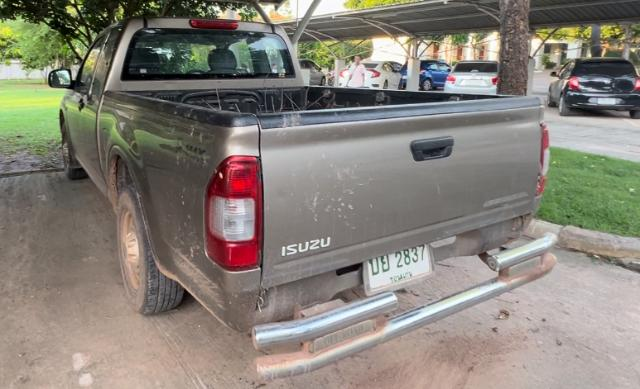pickup-truck: (46, 15, 560, 378)
